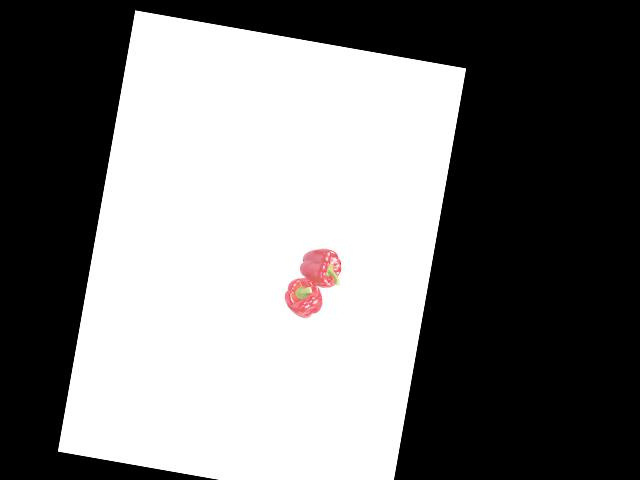bell_pepper: (293, 243, 347, 291)
